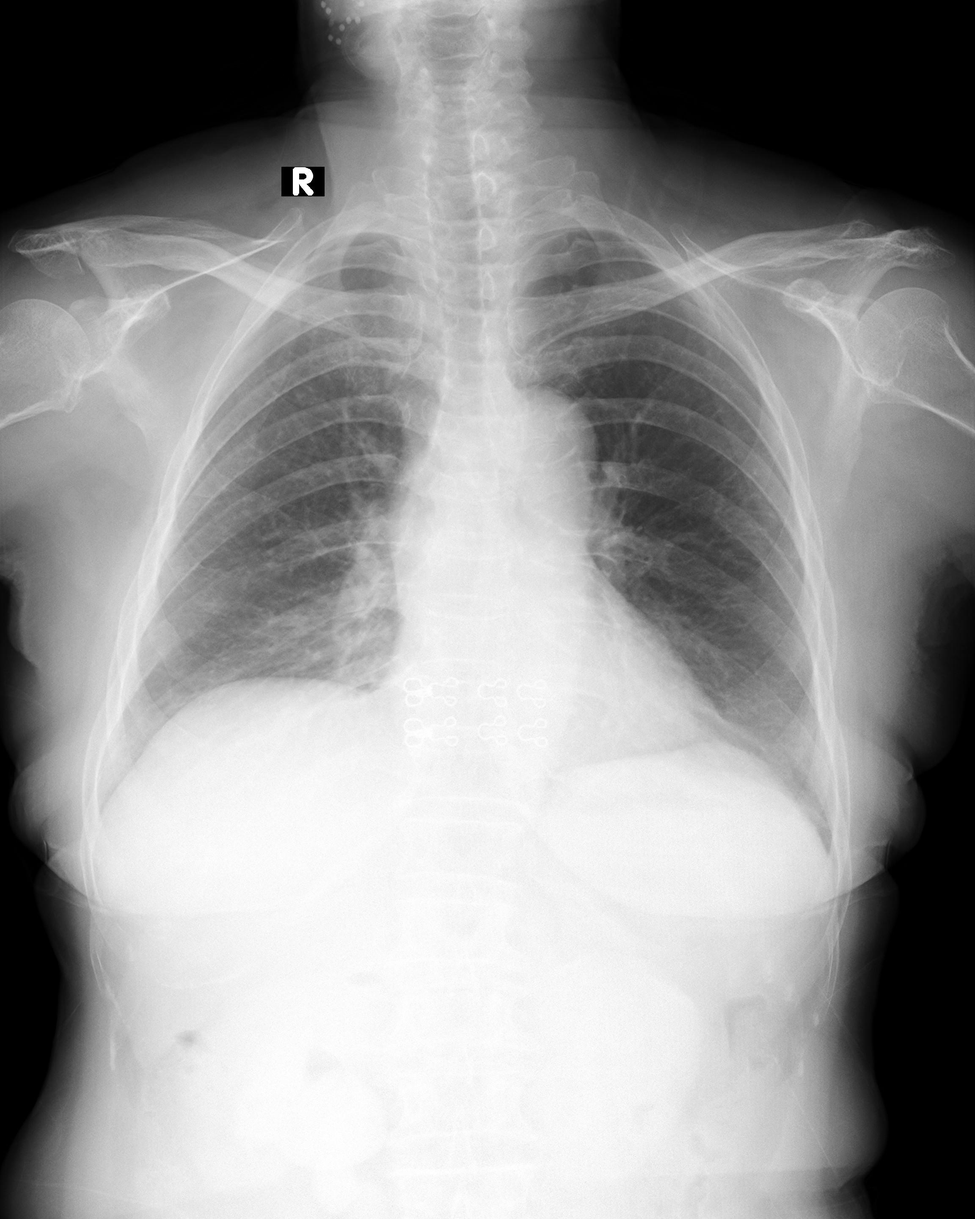Aortic enlargement: (478, 383, 601, 504)
Pleural thickening: (313, 227, 413, 254)
